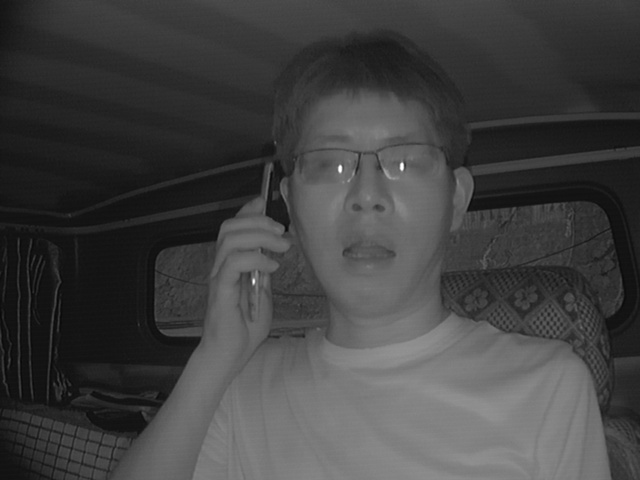hand: (193, 198, 285, 349)
